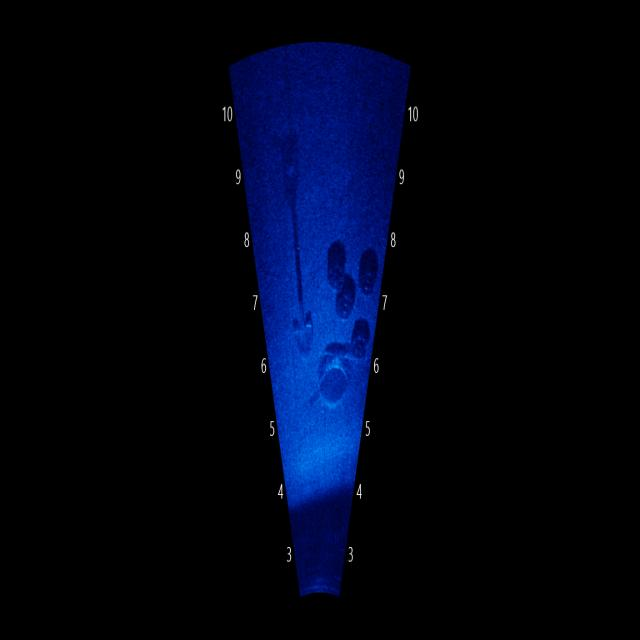circle: (315, 349, 353, 418), (348, 323, 372, 369), (325, 256, 347, 294)
